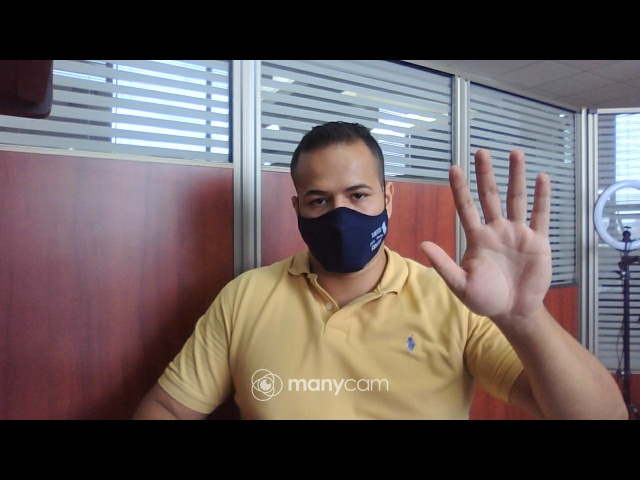Hello: (417, 147, 561, 321)
